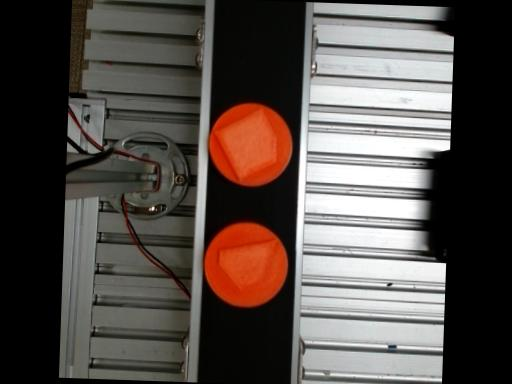Not_Square: (213, 107, 278, 183), (217, 239, 277, 291)
Orange_Waper: (203, 221, 286, 307), (208, 103, 290, 186)
